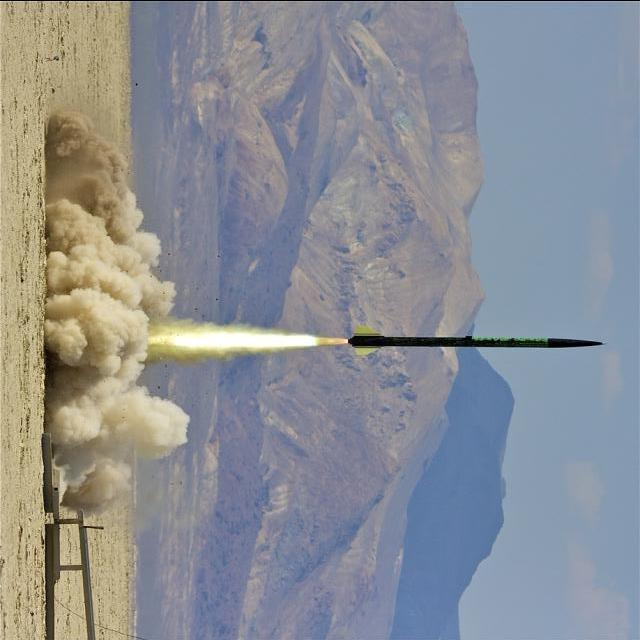missile: (331, 314, 616, 362)
